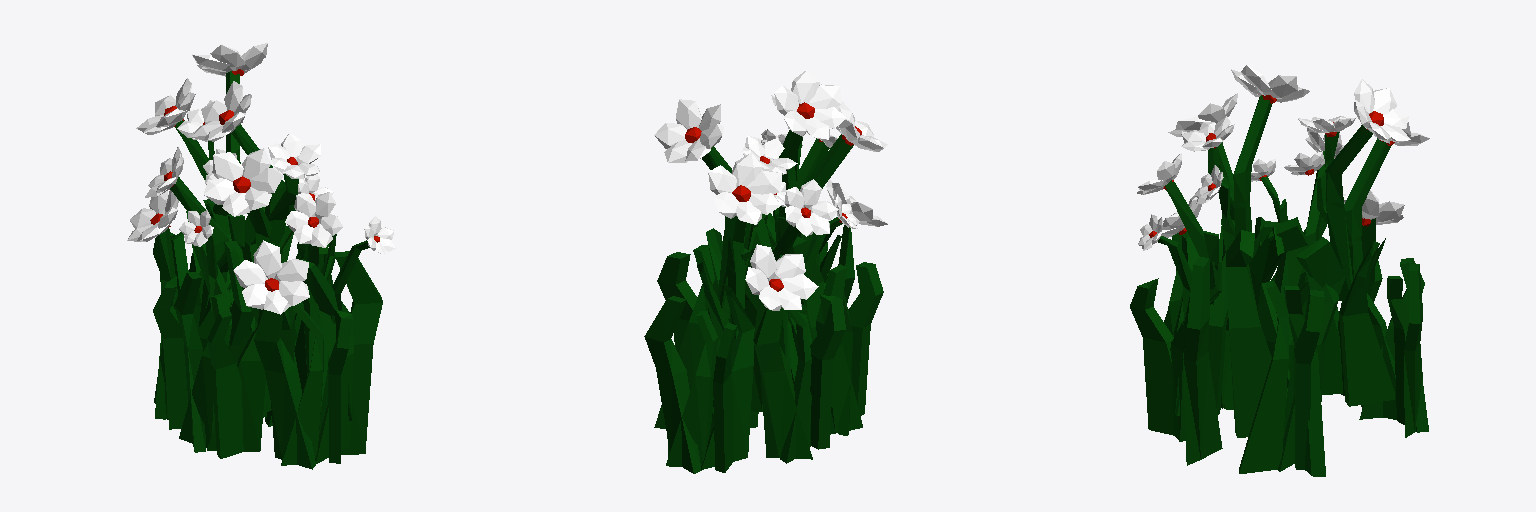
File: arbol9.obj
The picture shows the model from 3 angles: view 1: azimuth 30°, elevation 25°; view 2: azimuth 150°, elevation 25°; view 3: azimuth 270°, elevation 25°; orthographic projection.
Visible parts, largest first — view 1: Cube.063, Cube.062, Flower.021, Flower.024, Flower.020, Flower.019, Flower.016, Flower.014, Flower.015, Flower.022, Flower.018, Flower.011 (+1 smaller); view 2: Cube.062, Cube.063, Flower.014, Flower.020, Flower.015, Flower.011, Flower.016, Flower.021, Flower.013, Flower.017, Flower.019, Flower.024; view 3: Cube.063, Cube.062, Flower.015, Flower.020, Flower.014, Flower.019, Flower.021, Flower.022, Flower.016, Flower.018, Flower.011, Flower.017 (+4 smaller).
Part boxes in pixels (bbox=[...]): Cube.063: bbox=[174, 225, 382, 469]; Cube.062: bbox=[153, 199, 301, 429]; Flower.021: bbox=[204, 148, 295, 331]; Flower.024: bbox=[233, 240, 309, 314]; Flower.020: bbox=[192, 81, 298, 262]; Flower.019: bbox=[285, 192, 343, 375]; Flower.016: bbox=[145, 147, 244, 326]; Flower.014: bbox=[136, 78, 227, 218]; Flower.015: bbox=[192, 43, 267, 227]; Flower.022: bbox=[324, 216, 395, 420]; Flower.018: bbox=[268, 133, 320, 178]; Flower.011: bbox=[127, 190, 178, 241]; Cube.062: bbox=[644, 218, 845, 473]; Cube.063: bbox=[654, 214, 883, 435]; Flower.014: bbox=[708, 153, 781, 338]; Flower.020: bbox=[774, 69, 845, 237]; Flower.015: bbox=[654, 99, 745, 319]; Flower.011: bbox=[745, 244, 818, 310]; Flower.016: bbox=[773, 179, 838, 375]; Flower.021: bbox=[798, 101, 887, 269]; Flower.013: bbox=[773, 194, 859, 359]; Flower.017: bbox=[742, 135, 797, 174]; Flower.019: bbox=[766, 135, 850, 242]; Flower.024: bbox=[826, 179, 887, 226]; Cube.063: bbox=[1130, 217, 1338, 476]; Cube.062: bbox=[1239, 217, 1428, 473]; Flower.015: bbox=[1325, 79, 1410, 300]; Flower.020: bbox=[1208, 65, 1309, 261]; Flower.014: bbox=[1317, 122, 1429, 279]; Flower.019: bbox=[1137, 153, 1218, 304]; Flower.021: bbox=[1168, 93, 1237, 330]; Flower.022: bbox=[1138, 214, 1221, 415]; Flower.016: bbox=[1280, 128, 1344, 307]; Flower.018: bbox=[1181, 116, 1234, 151]; Flower.011: bbox=[1343, 190, 1404, 226]; Flower.017: bbox=[1298, 116, 1356, 136].
Bounding box in the file's own units: 1.44 × 2.73 × 2.06.